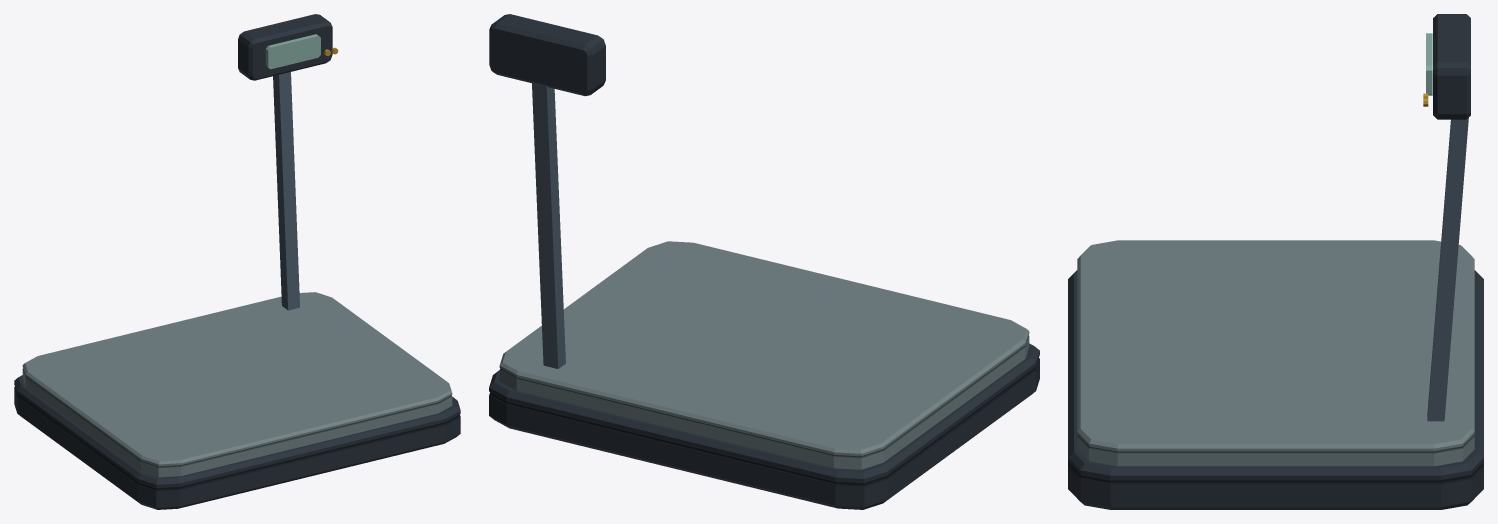
Rendered from C-05_platform_scale.glb.
The picture shows the model from 3 angles, left to right: view 1: azimuth 30°, elevation 25°; view 2: azimuth 150°, elevation 25°; view 3: azimuth 270°, elevation 25°; orthographic projection. The views are drawn at different scales.
Visible parts, largest first — view 1: C-05_platform_scale; view 2: C-05_platform_scale; view 3: C-05_platform_scale.
Boxes of the visible parts, x1,y1,x2,y2 form: C-05_platform_scale: (14, 14, 460, 509); C-05_platform_scale: (489, 14, 1039, 509); C-05_platform_scale: (1068, 14, 1483, 509).
Bounding box in the file's own units: 0.83 × 0.7975 × 0.68.
